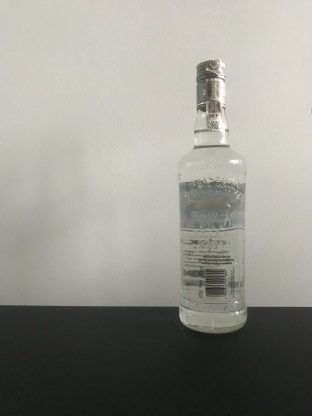nakretka: (194, 56, 227, 112)
